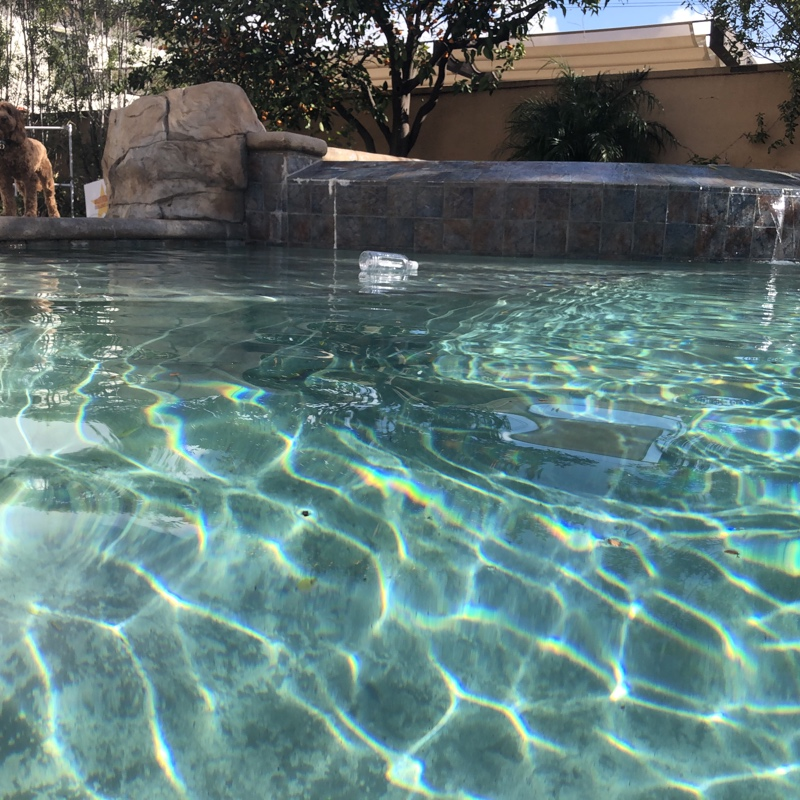Plastic Bottle: (359, 245, 422, 280)
